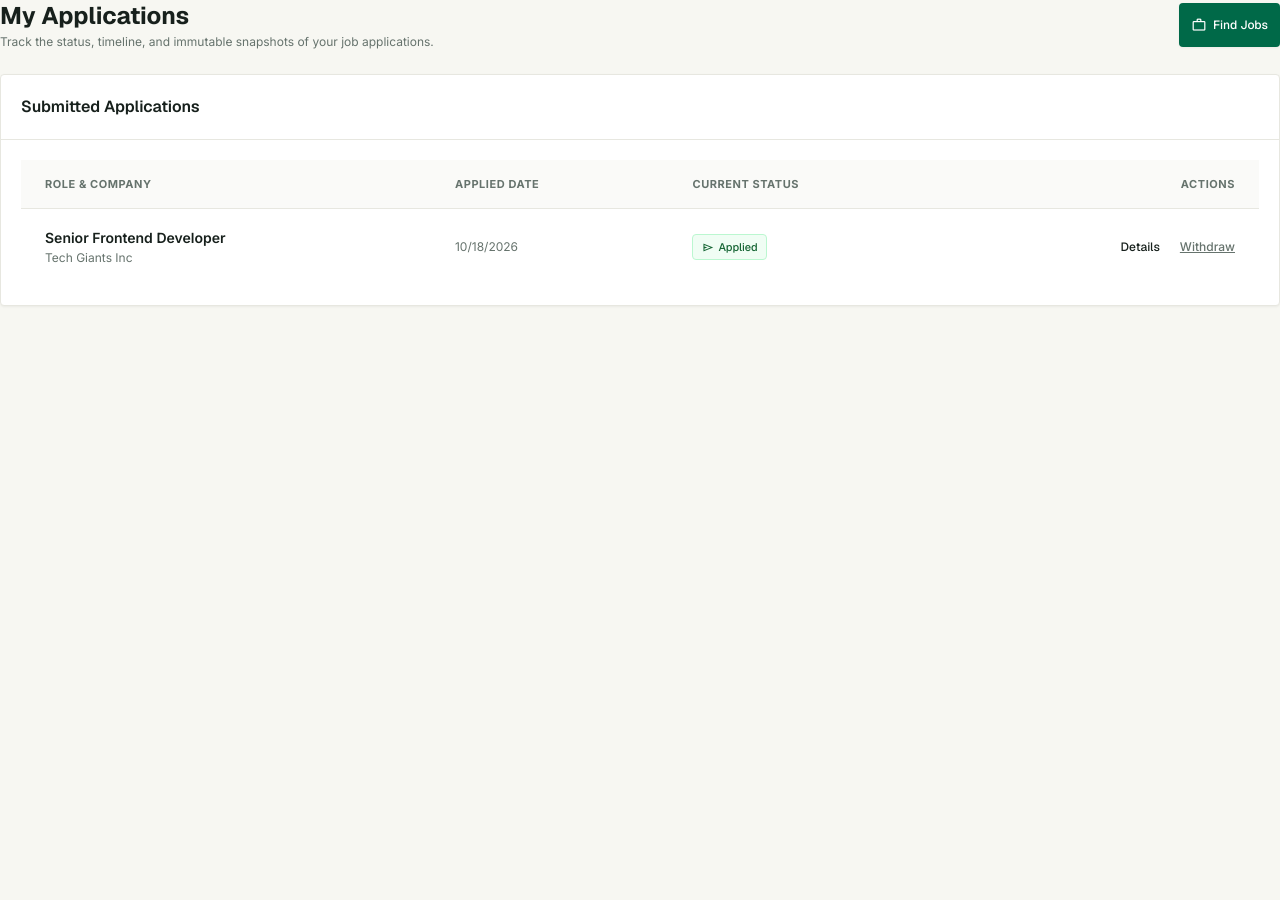
Test case: CandidateApplicationsPage › opens confirmation modal and executes withdrawal via candidateApi
The image size is (1280, 900).
Click the button "Withdraw" at (1207, 247), box [1180,239,1235,255]
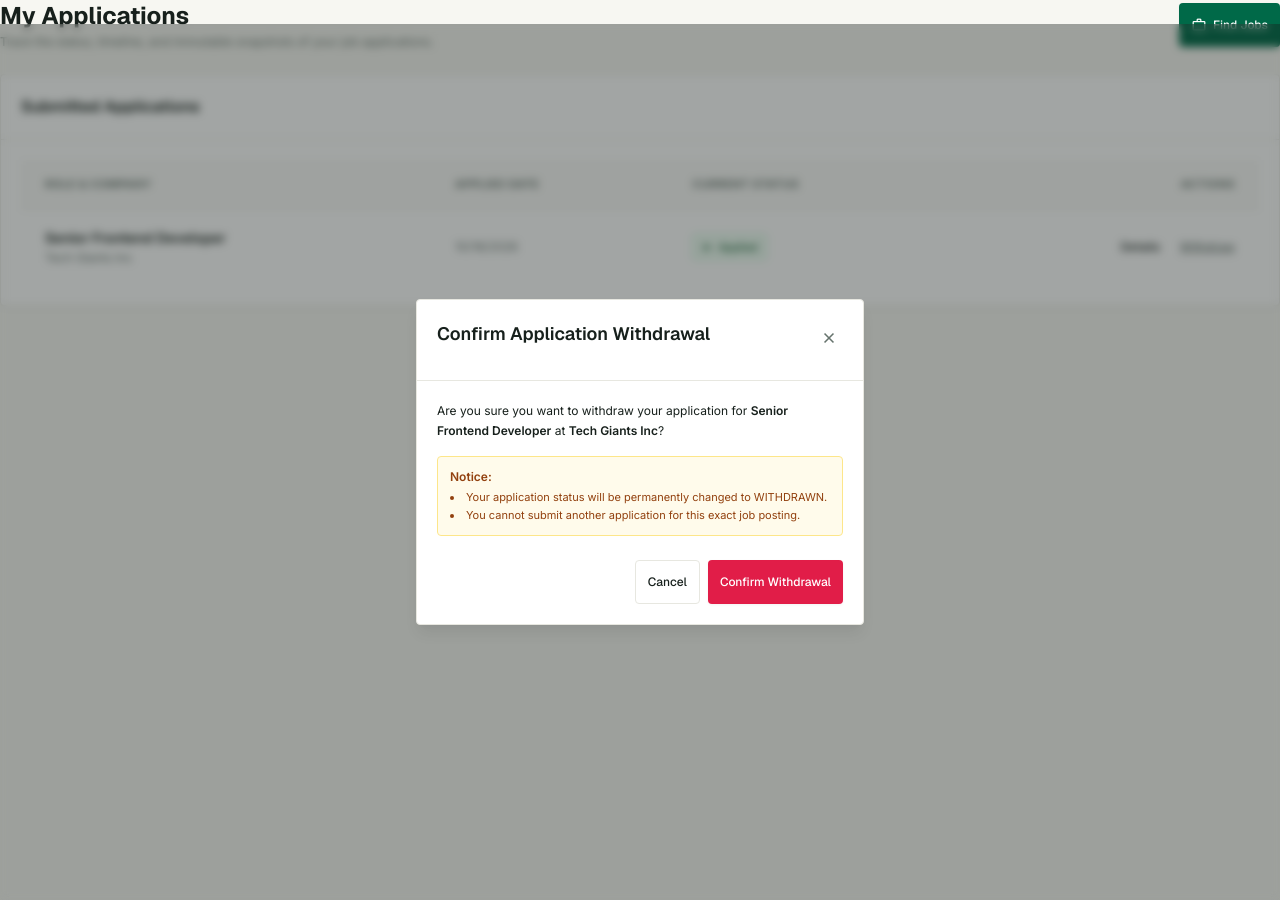
expect the heading "Confirm Application Withdrawal" is shown: met, box [437,320,710,348]
expect the text "Are you sure you want to withdraw your application for" is shown: met, box [437,403,747,418]
Click the button "Confirm Withdrawal" at (775, 582), box [708,560,843,604]
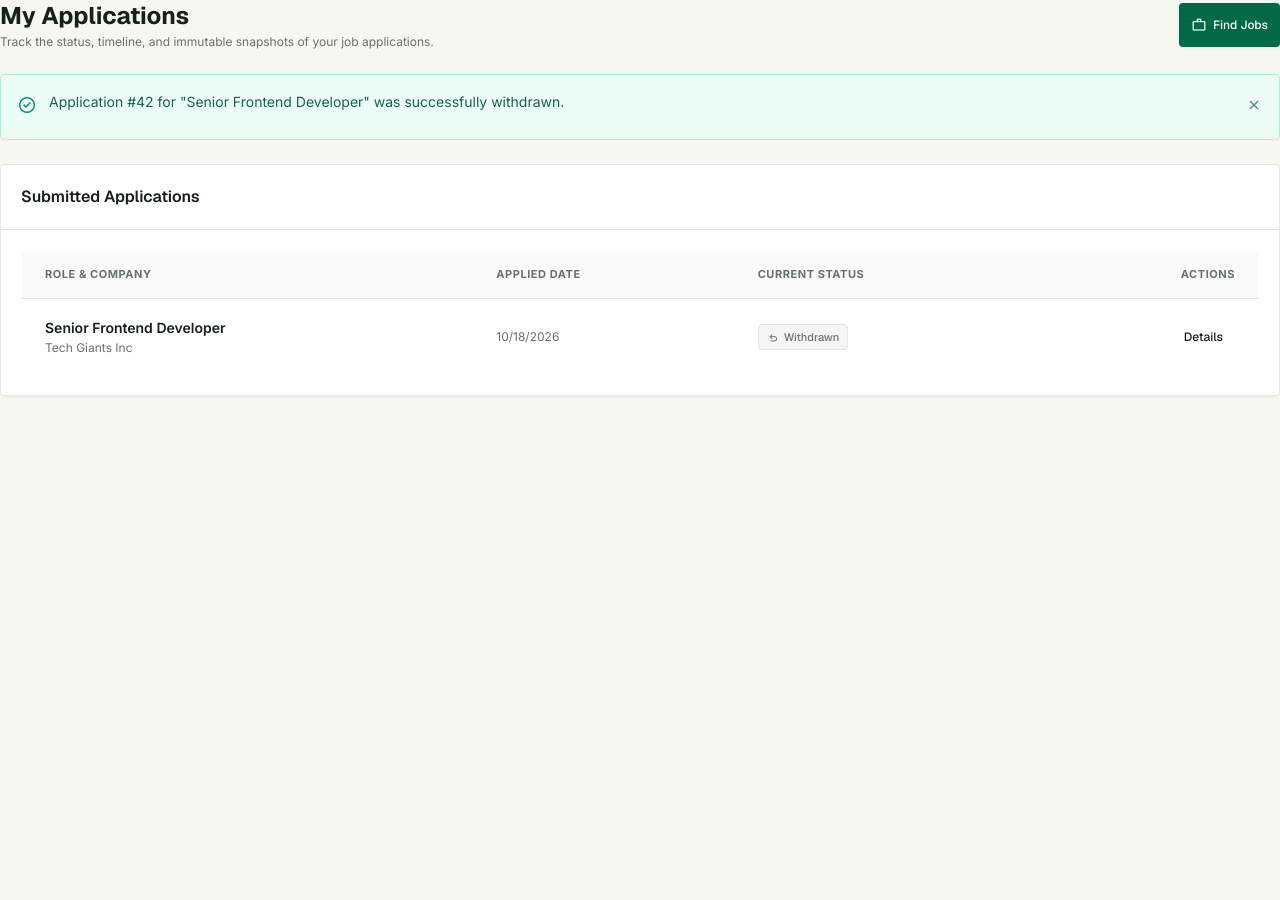
expect the text "Application #42 for \"Senior Frontend Developer\" was successfully withdrawn" is shown: met, box [49,93,564,110]
expect the text "Withdrawn" is shown: met, box [784,327,839,347]
